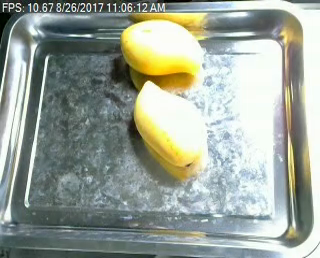Mango: (130, 80, 209, 168), (110, 17, 207, 81)
